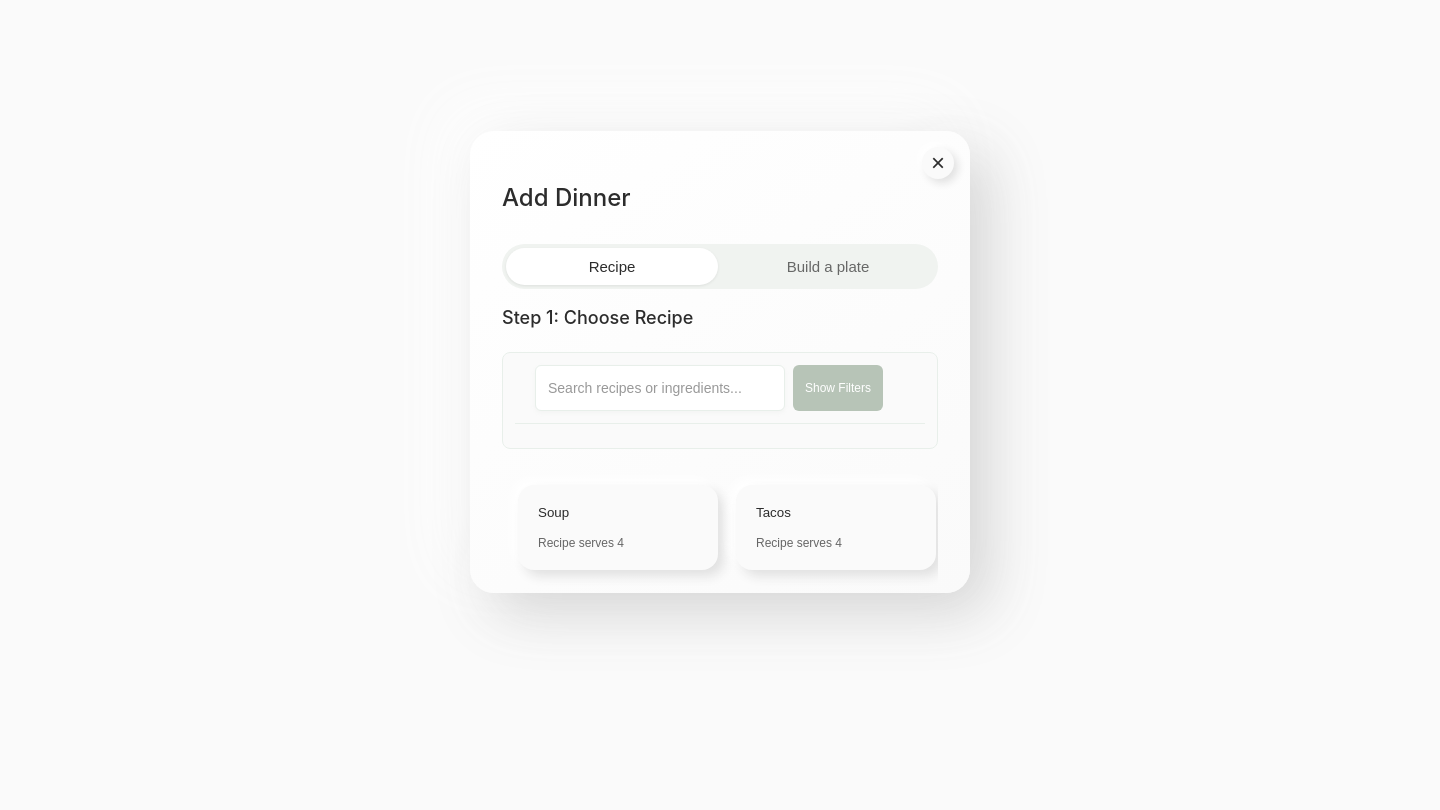
building a plate › saving to "Your plates" calls the page; saved plates stay out of the recipe grid
Later steps or results of the test are not shown.
Expected: the text "Steak night" is not shown
Click the tab "Build a plate".
click(828, 266)  # box [722, 248, 934, 285]
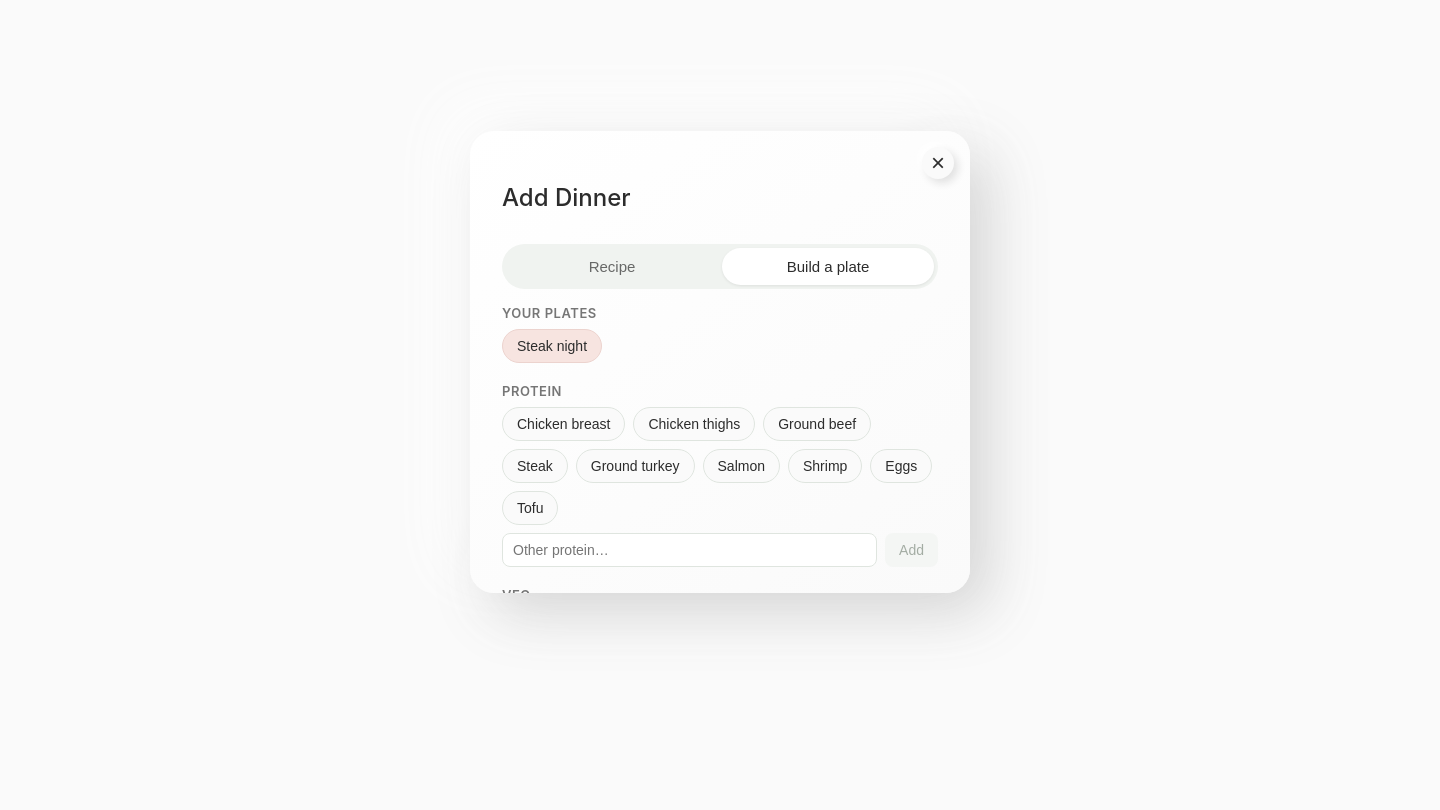
Result: the button "Steak night" is shown at [502, 329, 602, 363]
